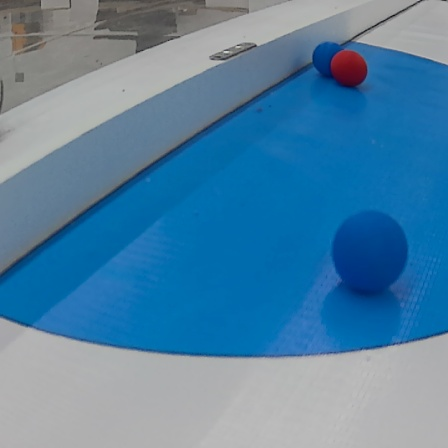blue: (334, 210, 411, 296), (310, 38, 347, 75)
blue_base: (0, 40, 448, 359)
red: (331, 50, 367, 89)
